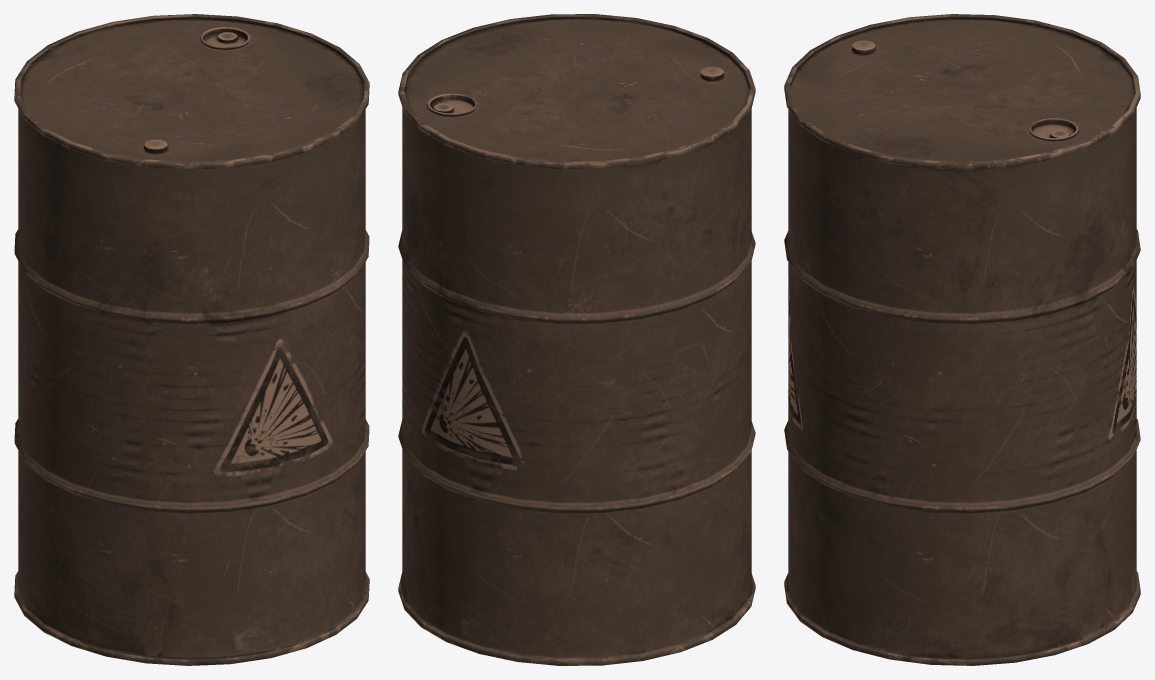
File: ph_barrel_a.gltf
3 renders of one model, left to right at view 1: azimuth 30°, elevation 25°; view 2: azimuth 150°, elevation 25°; view 3: azimuth 270°, elevation 25°, orthographic.
Parts seen in each view (by area): view 1: ph_barrel_a; view 2: ph_barrel_a; view 3: ph_barrel_a.
Part boxes in pixels (box(x1,y1,x2,y2)): ph_barrel_a: box(14, 14, 369, 665); ph_barrel_a: box(398, 14, 755, 665); ph_barrel_a: box(784, 14, 1140, 665).
Size of the model in its own units: 0.563 by 0.88 by 0.563.
1 material, 1 textured.
